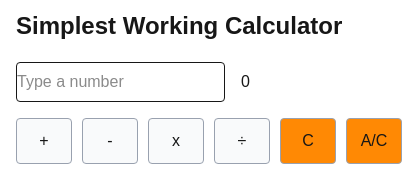
Test: Page › should calculate correctly when type number = 1 into the input field then press add button
In the number field with test id "calculator-input": (120, 82) top-left (16, 62), bottom-right (225, 102), type "1"
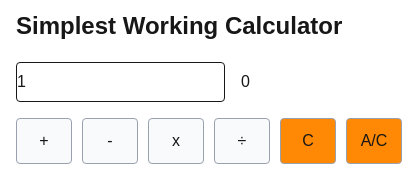
Click the button with test id "btn-add": (44, 141) top-left (16, 118), bottom-right (72, 164)
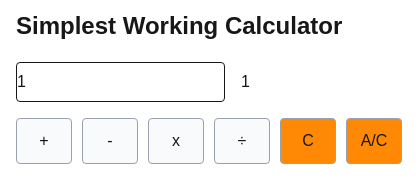
Check: the text with test id "calculator-result" reads "1", box top-left (241, 73), bottom-right (250, 90)
